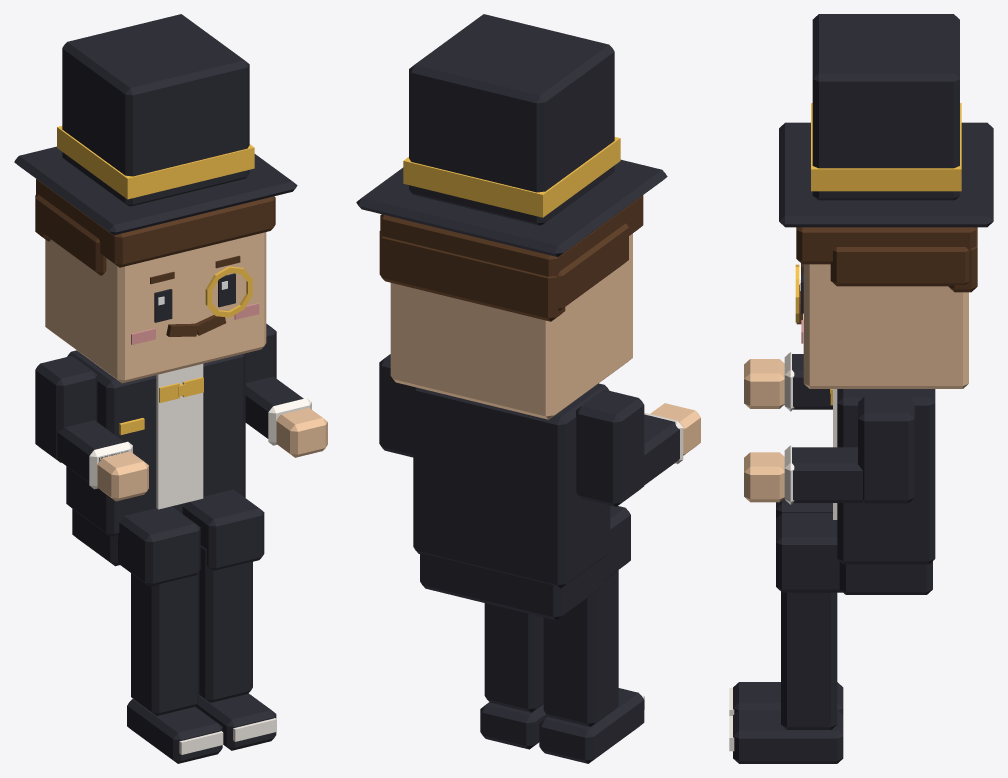
Rendered from CatCafe_NPC_Customer_Rich_Sit.glb.
3 views of the same model, side by side, from view 1: azimuth 30°, elevation 25°; view 2: azimuth 150°, elevation 25°; view 3: azimuth 270°, elevation 25° (orthographic). The views are drawn at different scales.
Parts seen in each view (by area): view 1: CatCafe_NPC_Customer_Rich_Sit; view 2: CatCafe_NPC_Customer_Rich_Sit; view 3: CatCafe_NPC_Customer_Rich_Sit.
Boxes of the visible parts, x1,y1,x2,y2 form: CatCafe_NPC_Customer_Rich_Sit: (14, 14, 327, 763); CatCafe_NPC_Customer_Rich_Sit: (356, 14, 700, 763); CatCafe_NPC_Customer_Rich_Sit: (729, 14, 993, 763).
Size of the model in its own units: 2.24 by 6.26 by 2.15.
Materials: 1 (1 with a texture image).
